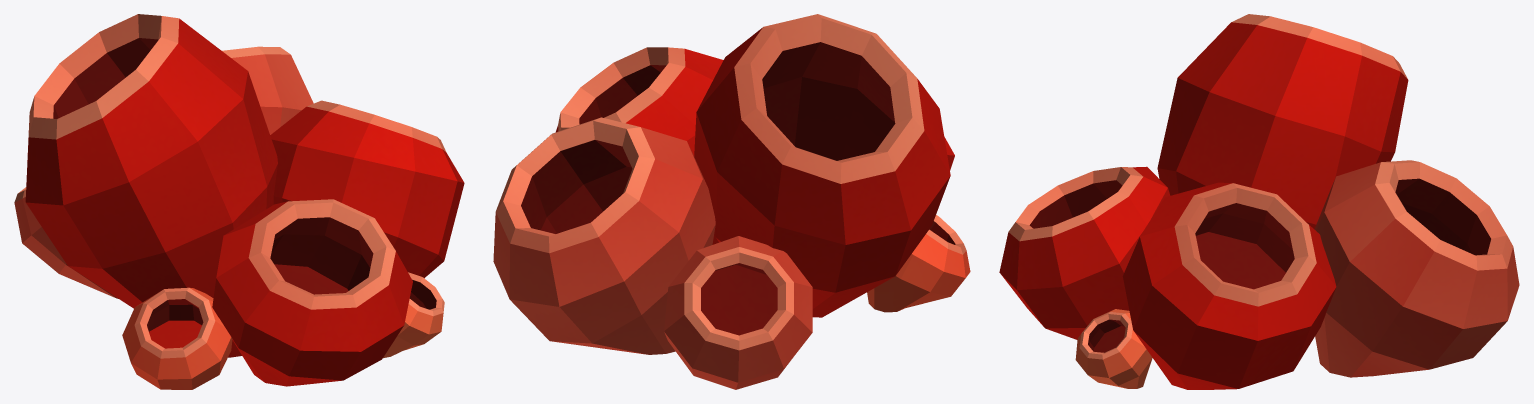
File: small_coral.glb
3 renders of one model, left to right at view 1: azimuth 30°, elevation 25°; view 2: azimuth 150°, elevation 25°; view 3: azimuth 270°, elevation 25°, orthographic. The views are drawn at different scales.
Visible parts, largest first — view 1: small_coral; view 2: small_coral; view 3: small_coral.
Part boxes in pixels (x1,y1,x2,y2): small_coral: (14,14,464,389); small_coral: (493,14,970,389); small_coral: (999,14,1519,389).
Bounding box in the file's own units: 2.77 × 2.1 × 3.36.
1 material, 1 textured.
